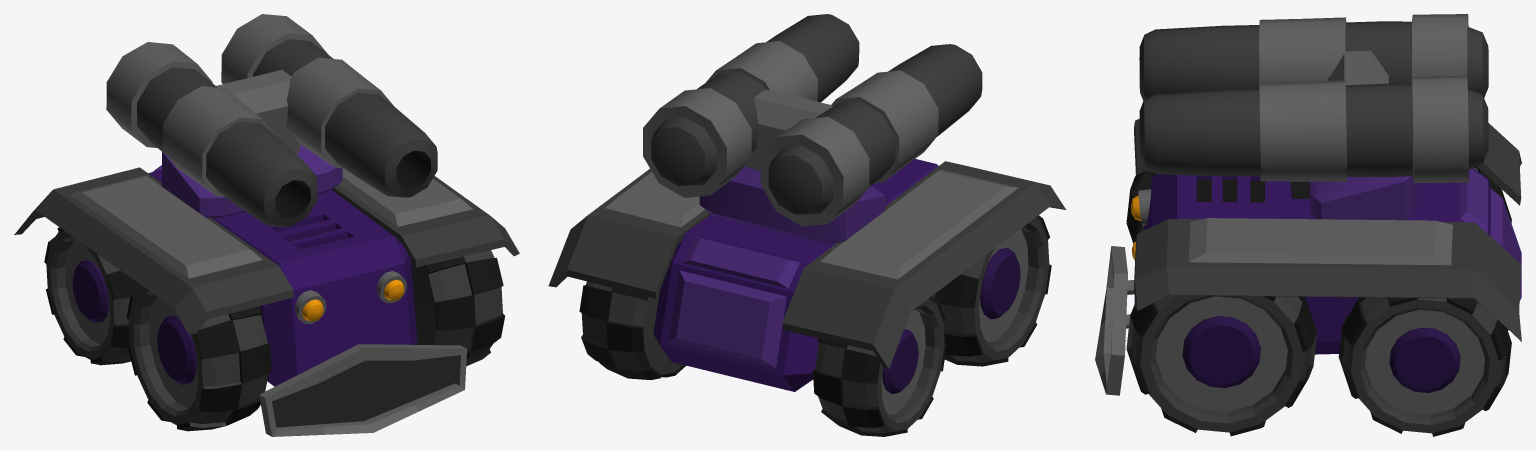
Rendered from Танк5.1.fbx.
The picture shows the model from 3 angles, left to right: view 1: azimuth 30°, elevation 25°; view 2: azimuth 150°, elevation 25°; view 3: azimuth 270°, elevation 25°; orthographic projection. The views are drawn at different scales.
Parts seen in each view (by area): view 1: Cube.014, Cube.017; view 2: Cube.014, Cube.017; view 3: Cube.014, Cube.017.
Part boxes in pixels (x1=…): Cube.014: x1=14, y1=165, x2=519, y2=436; Cube.017: x1=106, y1=14, x2=437, y2=226; Cube.014: x1=548, y1=159, x2=1065, y2=436; Cube.017: x1=643, y1=14, x2=982, y2=243; Cube.014: x1=1095, y1=118, x2=1521, y2=436; Cube.017: x1=1139, y1=14, x2=1488, y2=220.
Bounding box in the file's own units: 824 × 683 × 829.
